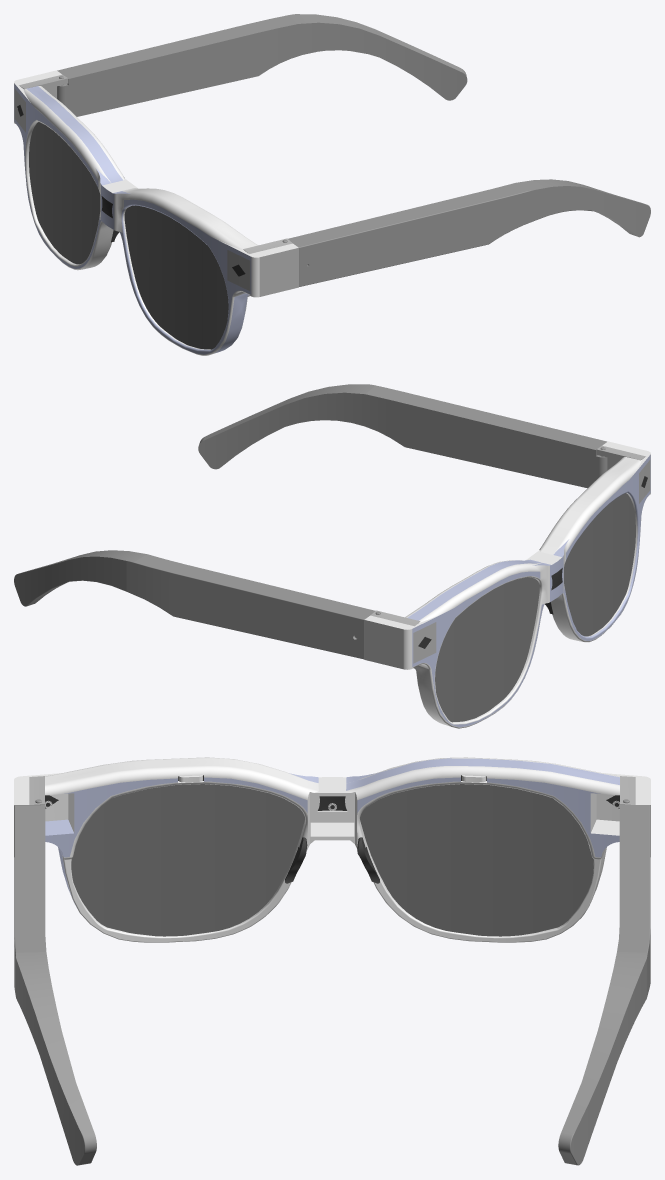
The model's file is glass.fbx.
3 views of the same model, one above another, from view 1: azimuth 30°, elevation 25°; view 2: azimuth 150°, elevation 25°; view 3: azimuth 270°, elevation 25° (orthographic). The views are drawn at different scales.
Visible parts, largest first — view 1: Body2 (×2), Body7, Body3, Body1, Body4 (×2); view 2: Body4 (×2), Body7, Body1, Body2 (×2), Body3; view 3: Body2 (×2), Body7, Body1, Body4 (×2), Body3.
Boxes of the visible parts, x1,y1,x2,y2 form: Body2 (×2): [67, 21, 467, 349]; Body7: [14, 70, 298, 355]; Body3: [289, 180, 650, 286]; Body1: [29, 122, 100, 264]; Body4 (×2): [57, 14, 640, 239]; Body4 (×2): [14, 391, 597, 659]; Body7: [364, 441, 650, 728]; Body1: [435, 577, 539, 722]; Body2 (×2): [33, 493, 635, 638]; Body3: [200, 384, 607, 448]; Body2 (×2): [71, 784, 623, 1163]; Body7: [14, 757, 650, 942]; Body1: [360, 784, 593, 936]; Body4 (×2): [41, 805, 650, 1165]; Body3: [14, 805, 92, 1165].
Size of the model in its own units: 154 by 44.53 by 143.
